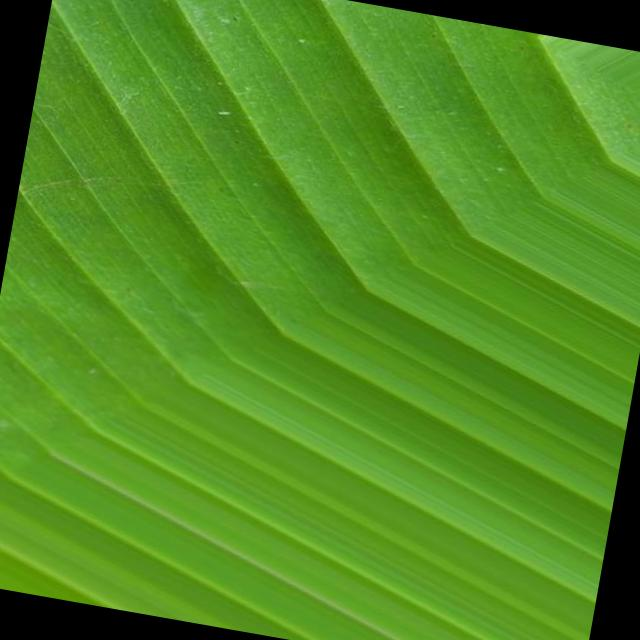Banana_Healthy: (40, 9, 344, 292)
